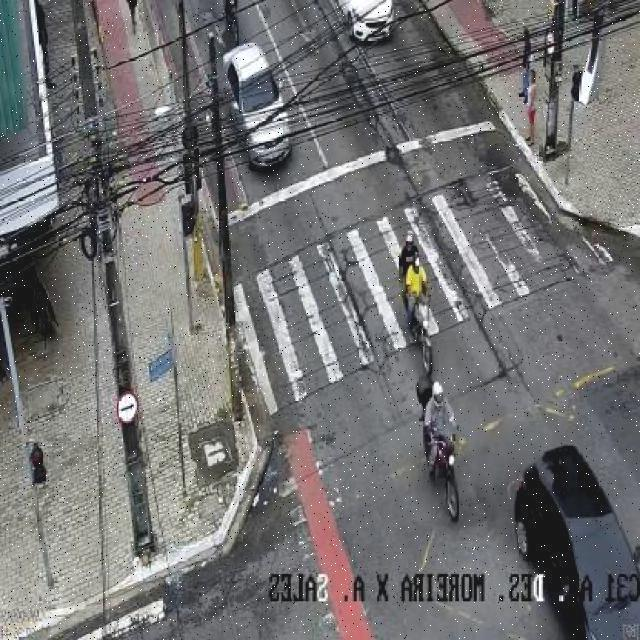Car: (218, 42, 299, 174)
Cycle: (428, 431, 466, 528), (406, 283, 440, 383)
Van: (507, 440, 640, 640)
